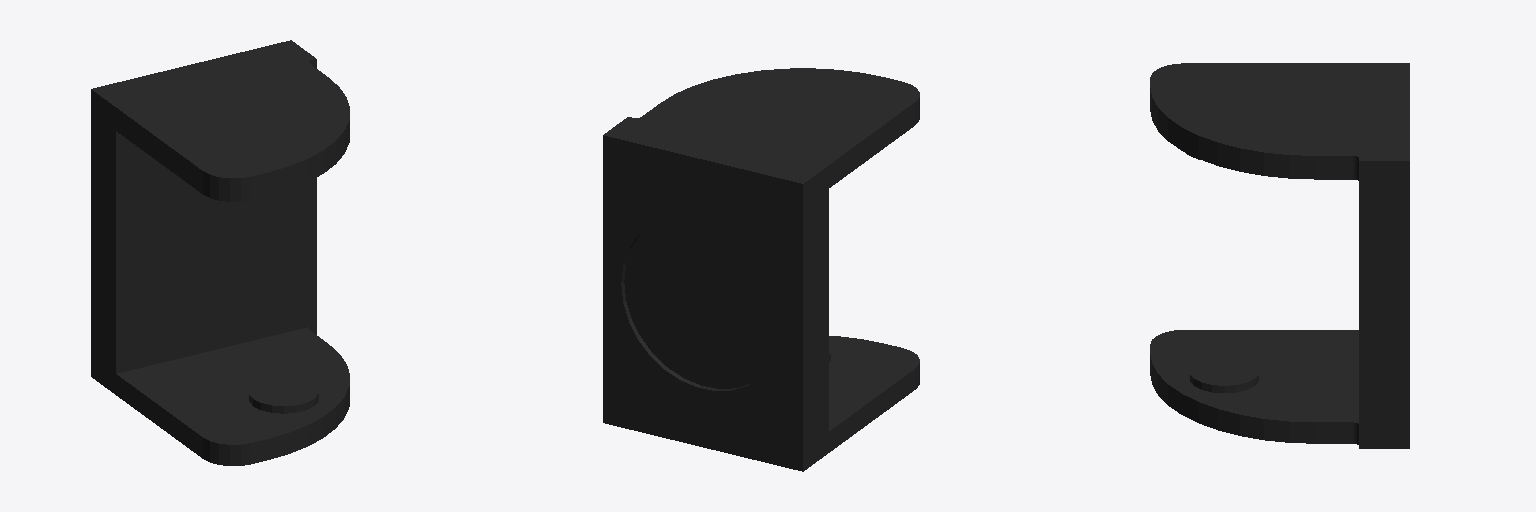
3 renders of one model, left to right at view 1: azimuth 30°, elevation 25°; view 2: azimuth 150°, elevation 25°; view 3: azimuth 270°, elevation 25°, orthographic.
Visible parts, largest first — view 1: link_4.0; view 2: link_4.0; view 3: link_4.0.
Boxes of the visible parts, x1=… form: link_4.0: x1=91, y1=40, x2=349, y2=465; link_4.0: x1=603, y1=68, x2=919, y2=471; link_4.0: x1=1150, y1=63, x2=1409, y2=448.
Size of the model in its own units: 0.0196 by 0.0269 by 0.022.